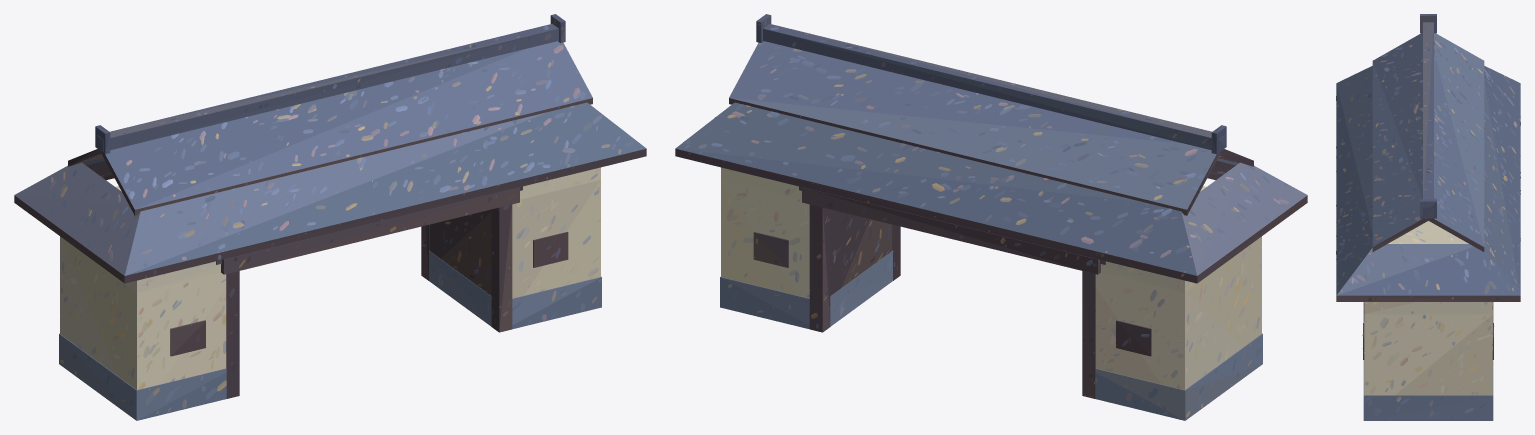
Rendered from HK_GateHouse_Nagaya.glb.
3 renders of one model, left to right at view 1: azimuth 30°, elevation 25°; view 2: azimuth 150°, elevation 25°; view 3: azimuth 270°, elevation 25°, orthographic. The views are drawn at different scales.
Visible parts, largest first — view 1: HK_GateHouse_Nagaya; view 2: HK_GateHouse_Nagaya; view 3: HK_GateHouse_Nagaya.
Part boxes in pixels (box(x1,y1,x2,y2)): HK_GateHouse_Nagaya: box(14, 14, 646, 420); HK_GateHouse_Nagaya: box(675, 14, 1307, 420); HK_GateHouse_Nagaya: box(1336, 14, 1520, 420).
Size of the model in its own units: 18.01 by 8.63 by 6.61.
